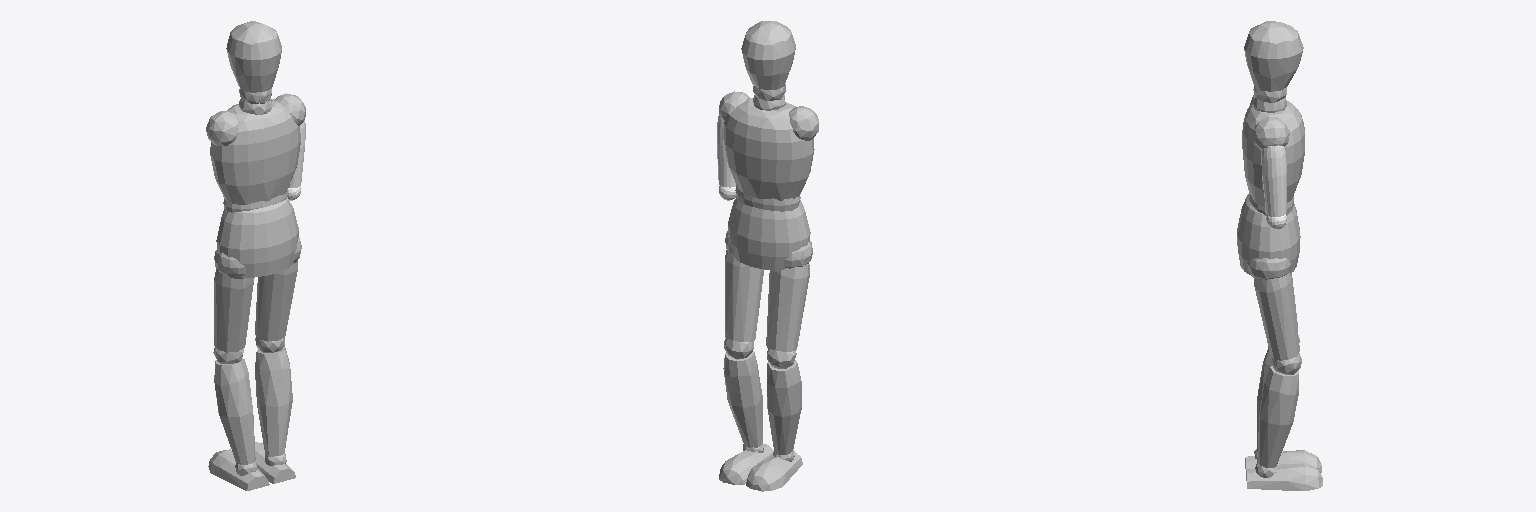
The robot description file, URDF, robot "mannequin":
<?xml version="1.0"?>
<robot name="mannequin">
    <!-- Puts mannequin in Gazebo sim -->
    <gazebo>
        <plugin name="gazebo_ros_control" filename="libgazebo_ros_control.so">
            <robotNamespace>/mannequin</robotNamespace>
        </plugin>
    </gazebo>

    <!-- * * * Link Definitions * * * -->
    <link name="base_link">
        <visual>
            <origin rpy="0.1 0 0" xyz="0 0 0"/>
            <geometry>
                <box size="0.01 0.01 0.01"/>
            </geometry>
        </visual>
	</link>
    <gazebo reference="base_link">
        <kp>1000.0</kp>
        <kd>1000.0</kd>
        <mu1>10.0</mu1>
        <mu2>10.0</mu2>
        <material>Gazebo/White</material>
    </gazebo>


    <link name="body_link">
        <visual>
            <origin rpy="0.0 0 0" xyz="0 0 0"/>
            <geometry>
                <!-- Material color set to white in blender -->
                <mesh filename="package://model_description/models/mannequin/meshes/body_formatted.dae"/>
            </geometry>
        </visual>
        <collision>
            <origin xyz="0 0 0" rpy="0 0 0"/>
            <geometry>
                <cylinder radius="0.2" length="0.1"/>
            </geometry>
        </collision>
        <inertial>
            <origin xyz="0 0 0" rpy="0 0 0"/>
            <mass value="59" /> <!-- Assuming 3.2kg arm, and half of it is upper arm-->
            <inertia ixx="20.9941666667" ixy="0.0" ixz="0.0" iyy="20.9941666667" iyz="0.0" izz="2.655"/>
        </inertial>
	</link>
    <gazebo reference="body_link">
        <kp>5000.0</kp> <!-- kp, kd need to be this high to avoid falling through the floor -->
        <kd>5000.0</kd>
        <mu1>10.0</mu1>
        <mu2>10.0</mu2>
        <material>Gazebo/White</material>
    </gazebo>


    <link name="upper_left_arm_link">
        <visual>
            <origin rpy="0 0 0" xyz="0 0 -0.3"/>
            <geometry>
                <mesh filename="package://model_description/models/mannequin/meshes/upper_arm_formatted.dae"/>
            </geometry>
        </visual>
        <collision>
            <origin xyz="0 0 0" rpy="0 0 0"/>
            <geometry>
                <cylinder radius="0.03" length="0.3"/>
            </geometry>
        </collision>
        <inertial>
            <origin xyz="0 0 0" rpy="0 0 0"/>
            <mass value="1.6" /> <!-- Assuming 3.2kg arm, and half of it is upper arm-->
            <inertia ixx="0.01236" ixy="0.0" ixz="0.0" iyy="0.01236" iyz="0.0" izz="0.00072"/>
        </inertial>
    </link>
    <gazebo reference="upper_left_arm_link">
        <kp>1000.0</kp>
        <kd>1000.0</kd>
        <mu1>10.0</mu1>
        <mu2>10.0</mu2>
        <material>Gazebo/White</material>
    </gazebo>





    <!-- **** Joint Definitions **** -->
    <joint name="base_joint" type="fixed">
        <parent link="base_link"/>
        <child link="body_link"/>
        <!--<axis xyz="1 0 0"/>-->
        <!--<limit lower="-1.5" upper="1.5" effort="0.1" velocity="0.005"/>-->
        <!--<origin xyz="0.115 2 0" rpy="3.14159 -1.05879e-22 0.523599"/>-->
    </joint>
    
    <!-- Left Arm -->
    <joint name="left_shoulder_joint" type="continuous">
        <parent link="body_link"/>
        <child link="upper_left_arm_link"/>
        <axis xyz="1 0 0"/>
        <!--<limit lower="-1.5" upper="1.5" effort="0.1" velocity="0.005"/>-->
        <origin xyz="0.14 0.04 1.63" rpy="0 0 0"/>
    </joint>


</robot>

--- Facts derived from the render (not from the file) ---
The picture shows the robot from 3 angles, left to right: view 1: azimuth 30°, elevation 25°; view 2: azimuth 150°, elevation 25°; view 3: azimuth 270°, elevation 25°; orthographic projection.
Robot: mannequin — 3 links, 2 joints (1 continuous, 1 fixed); root link base_link; default pose: all joints at 0.
Links seen in each view (by area): view 1: body_link, upper_left_arm_link; view 2: body_link, upper_left_arm_link; view 3: body_link, upper_left_arm_link.
Boxes of the visible links, left/top/right/bottom form: body_link: left=206, top=21, right=305, bottom=490; upper_left_arm_link: left=288, top=120, right=305, bottom=200; body_link: left=719, top=21, right=818, bottom=491; upper_left_arm_link: left=717, top=115, right=735, bottom=200; body_link: left=1237, top=21, right=1322, bottom=490; upper_left_arm_link: left=1261, top=145, right=1286, bottom=229.
Size in the robot's own frame: 0.3778 by 0.2894 by 1.69 metres.
Meshes: 2 distinct files referenced, 2 mesh visuals loaded (2 Collada DAE).